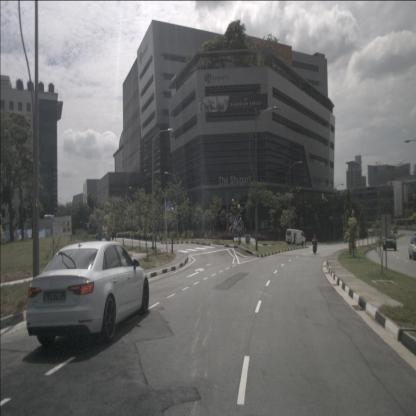vehicle-car: (26, 240, 150, 347), (285, 228, 306, 247), (383, 233, 396, 251), (408, 236, 416, 260)
vehicle-motorcycle: (312, 234, 318, 255)
